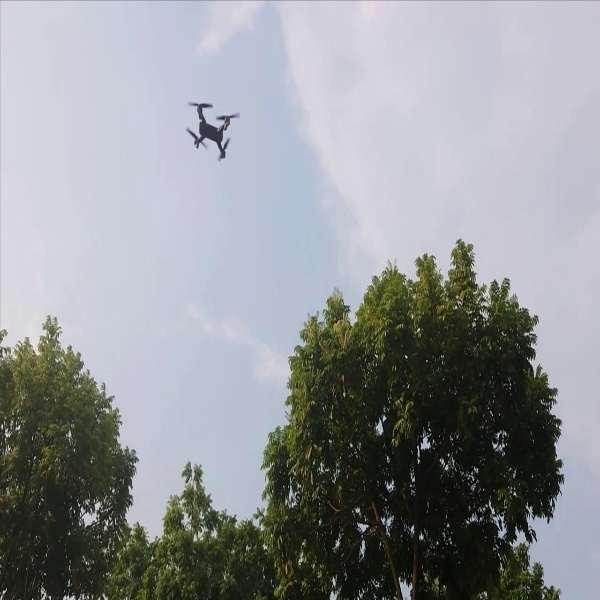drone: (173, 93, 247, 165)
